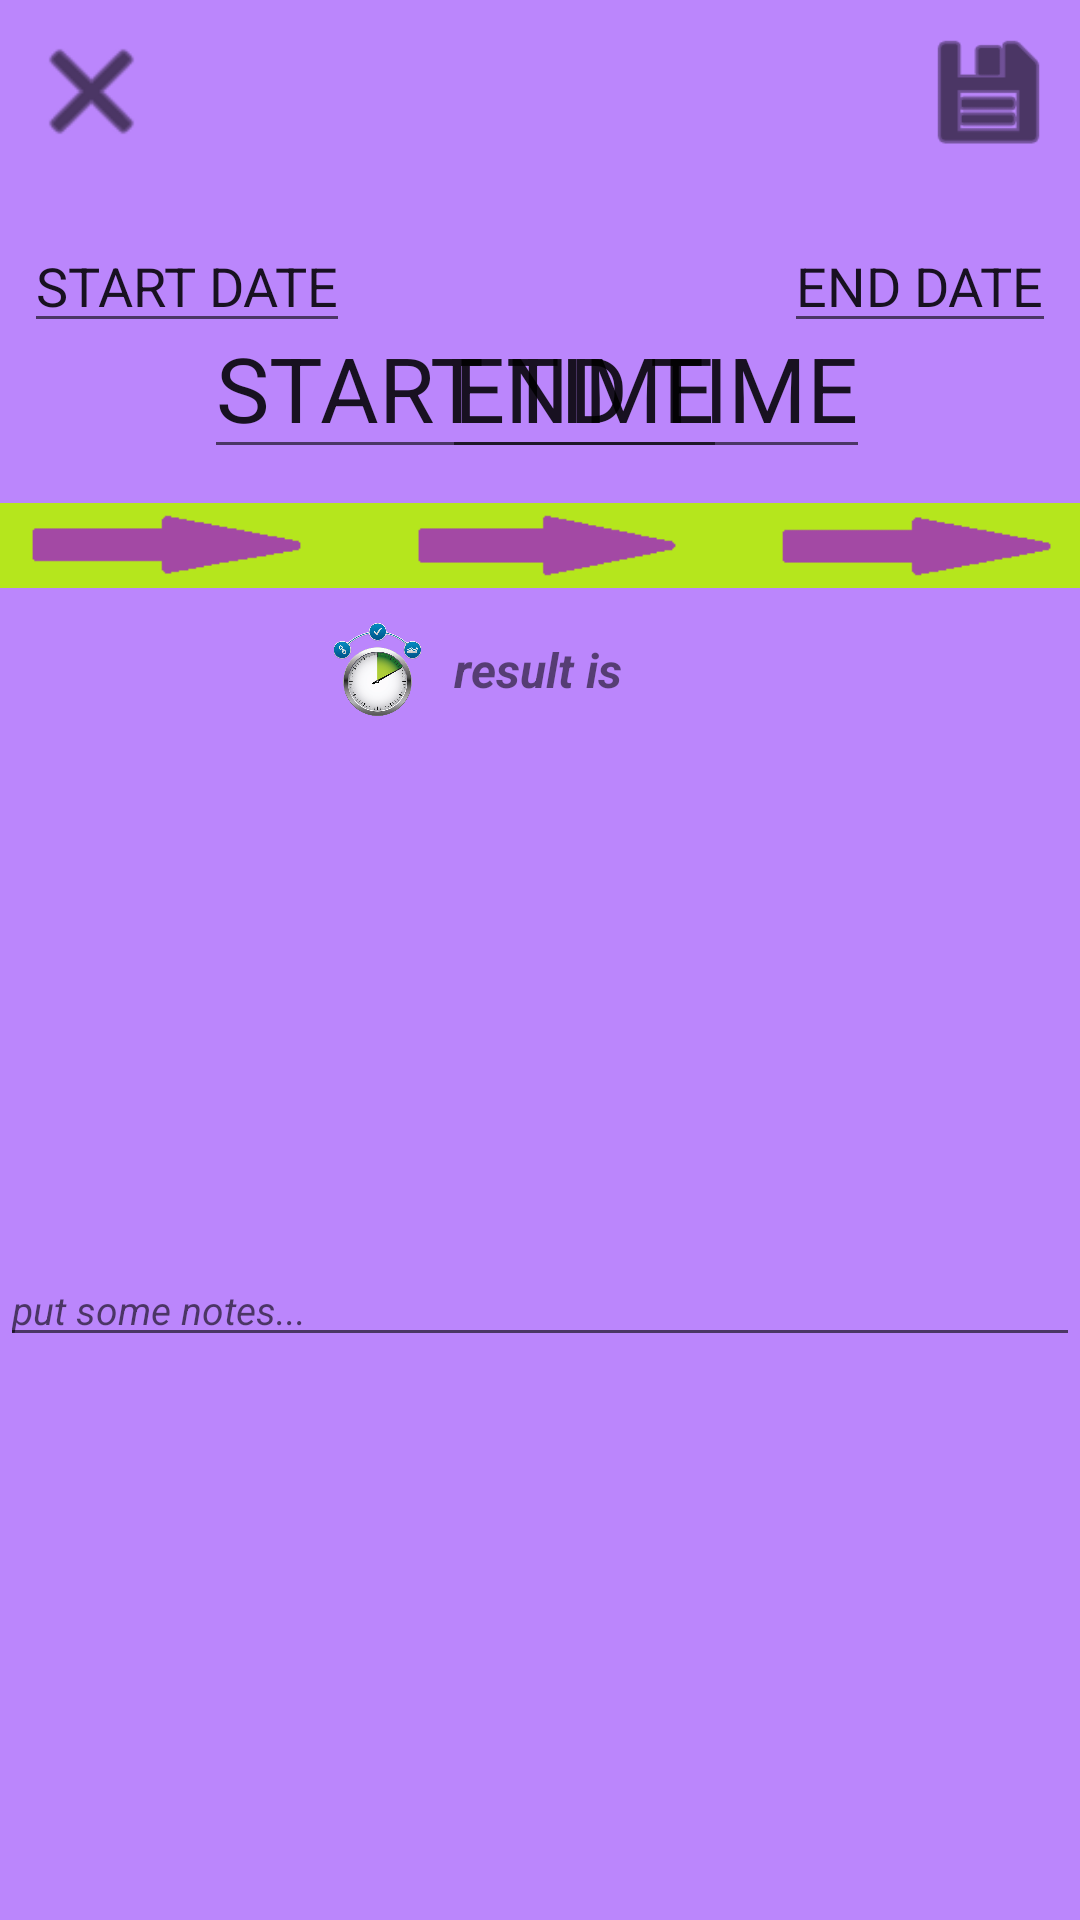

Icon click points for this 1080*1920 phone screenshot, format [x,y]:
close clear cancel: [91,91]
save: [988,92]
